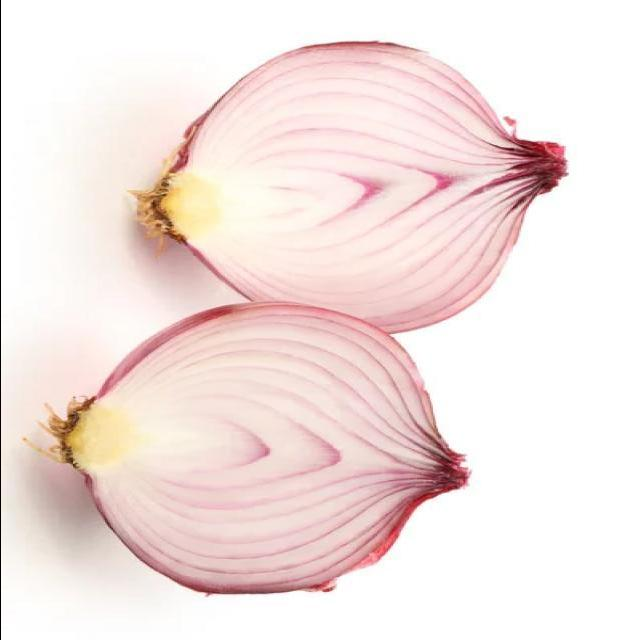onion: (141, 35, 571, 342), (55, 300, 477, 597)
